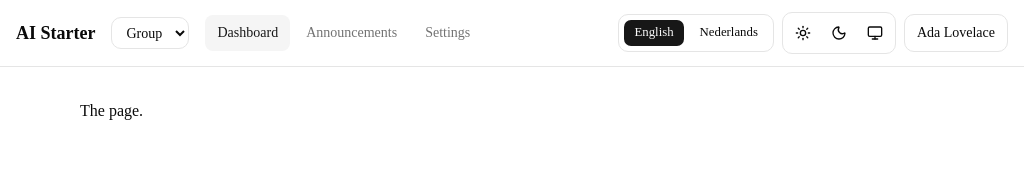
Test: AppShell › offers the profile and the way out once the menu is opened
Click the button "Ada Lovelace" at (956, 33), box [904,14,1008,52]
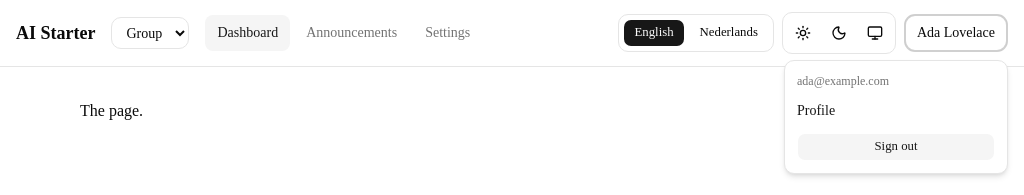
Result: the text "ada@example.com" is shown at [797,74,889,88]
Result: the button "Sign out" is shown at [797,133,995,161]
